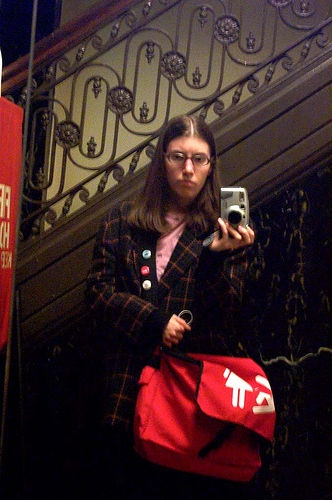head: (161, 117, 214, 199)
person: (70, 117, 261, 497)
